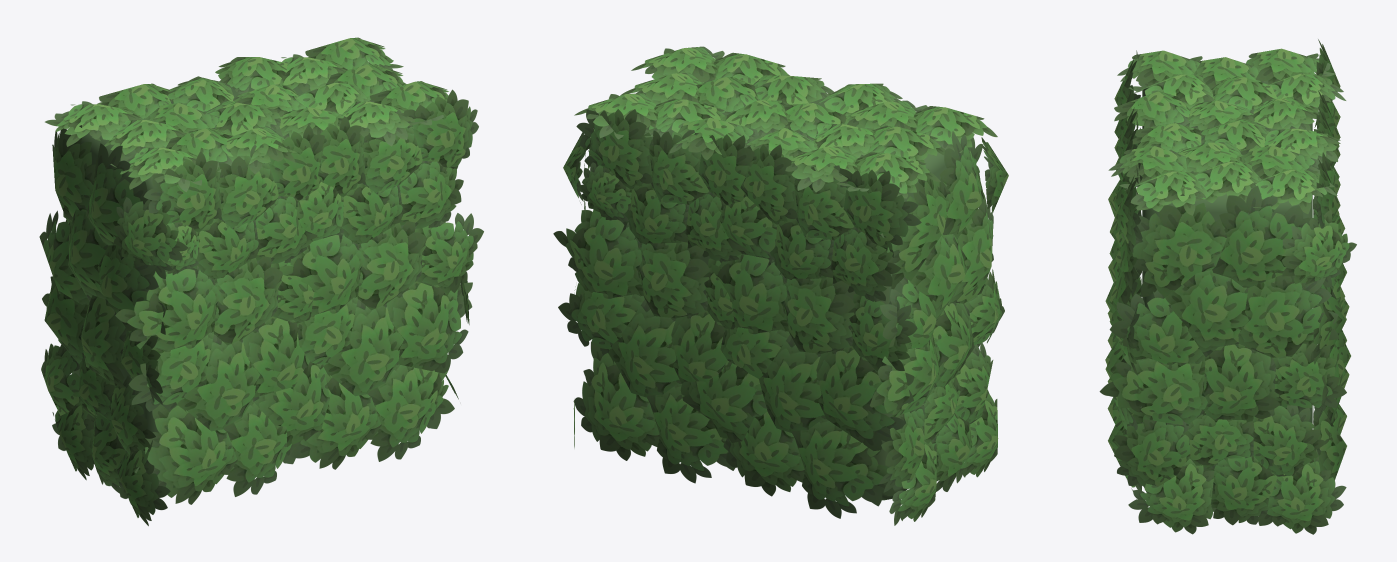
Rendered from hedge.glb.
3 views of the same model, side by side, from view 1: azimuth 30°, elevation 25°; view 2: azimuth 150°, elevation 25°; view 3: azimuth 270°, elevation 25° (orthographic). The views are drawn at different scales.
Visible parts, largest first — view 1: Bush_2x2; view 2: Bush_2x2; view 3: Bush_2x2.
Part boxes in pixels (left/top/right/bottom): Bush_2x2: left=39, top=37, right=483, bottom=525; Bush_2x2: left=553, top=46, right=1008, bottom=525; Bush_2x2: left=1099, top=39, right=1356, bottom=534.
Size of the model in its own units: 1.8 by 1.63 by 1.19.
1 material, 1 textured.
